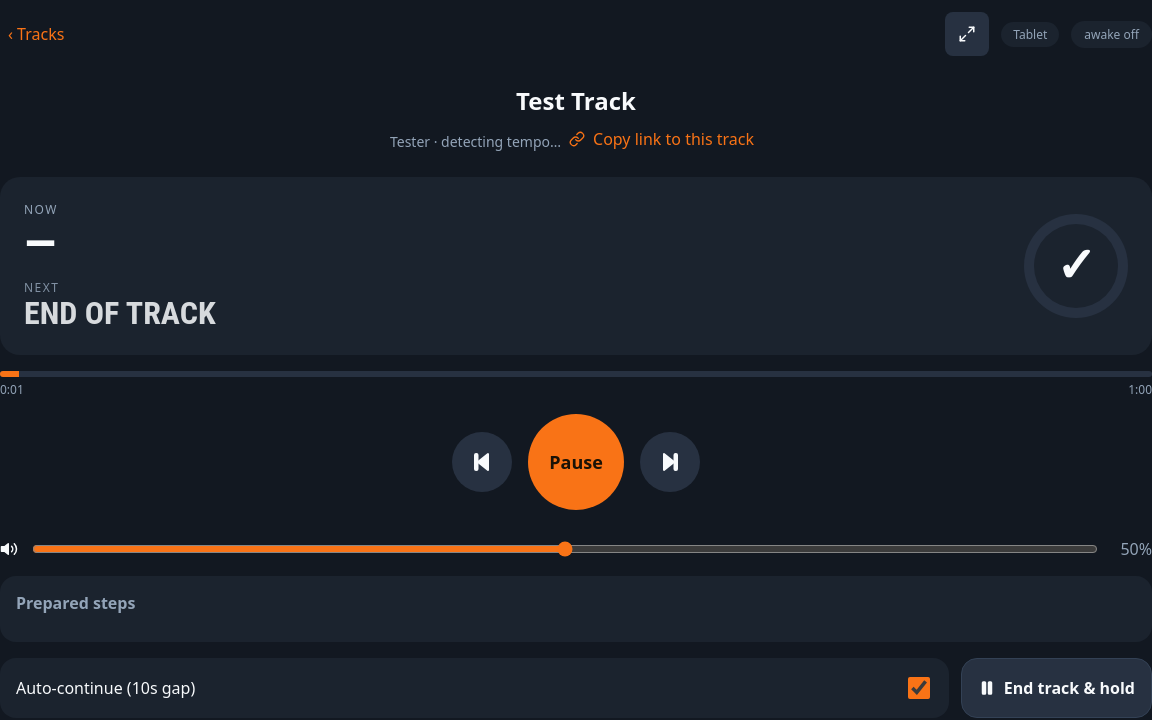
Scenario: PlayerScreen stage mode › enters via the topbar button and exits on tap
The image size is (1152, 720).
Click the button named "Stage mode": (967, 34) [945,12,989,56]
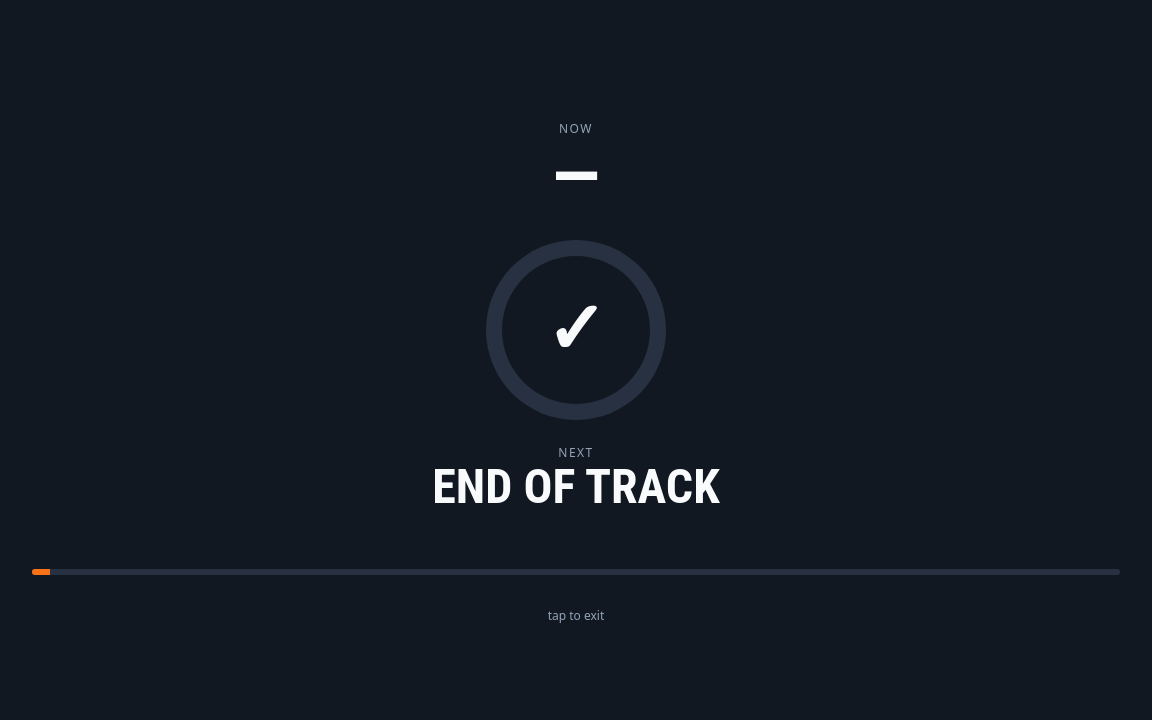
Now the element with class "stage" is shown
Click the element with class "stage": (576, 677) [0,0,1151,719]
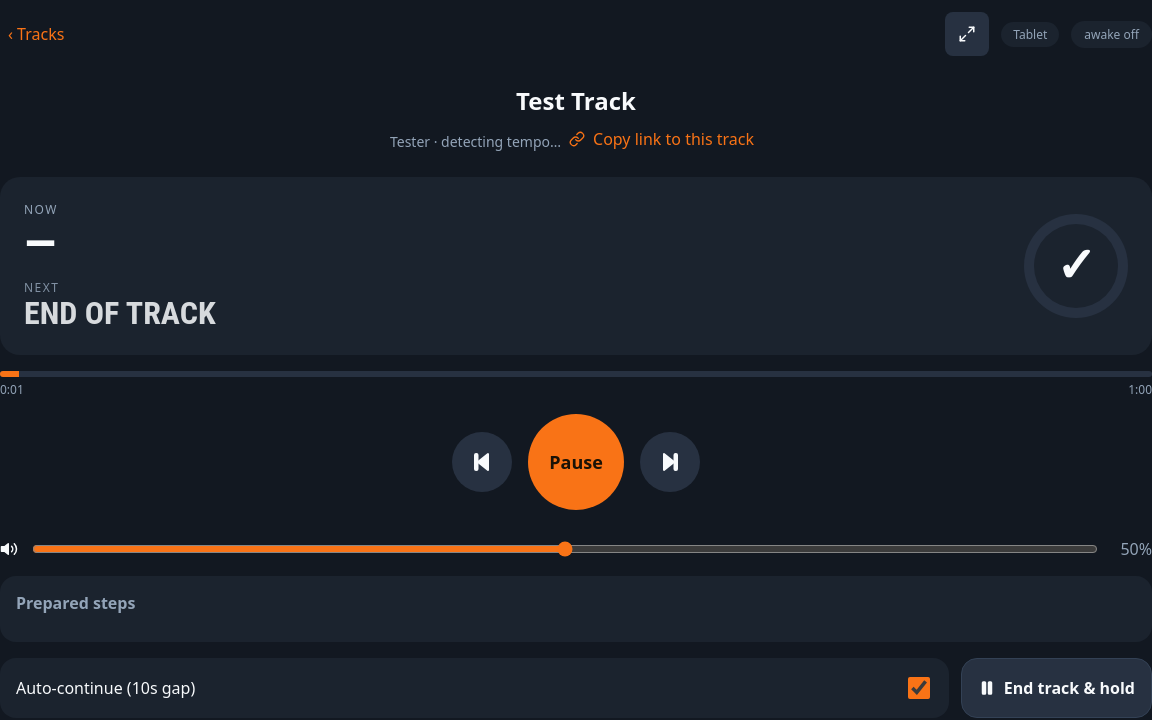
Now the element with class "stage" is gone
